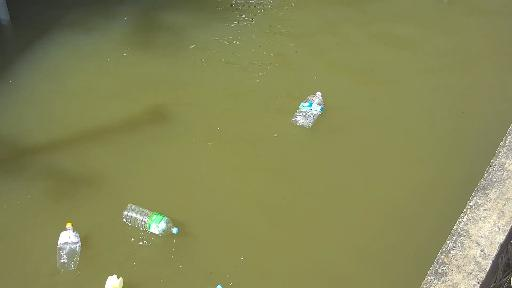plastic: (116, 201, 189, 236), (50, 221, 85, 269), (288, 90, 330, 129), (100, 270, 130, 288), (212, 280, 224, 288)
